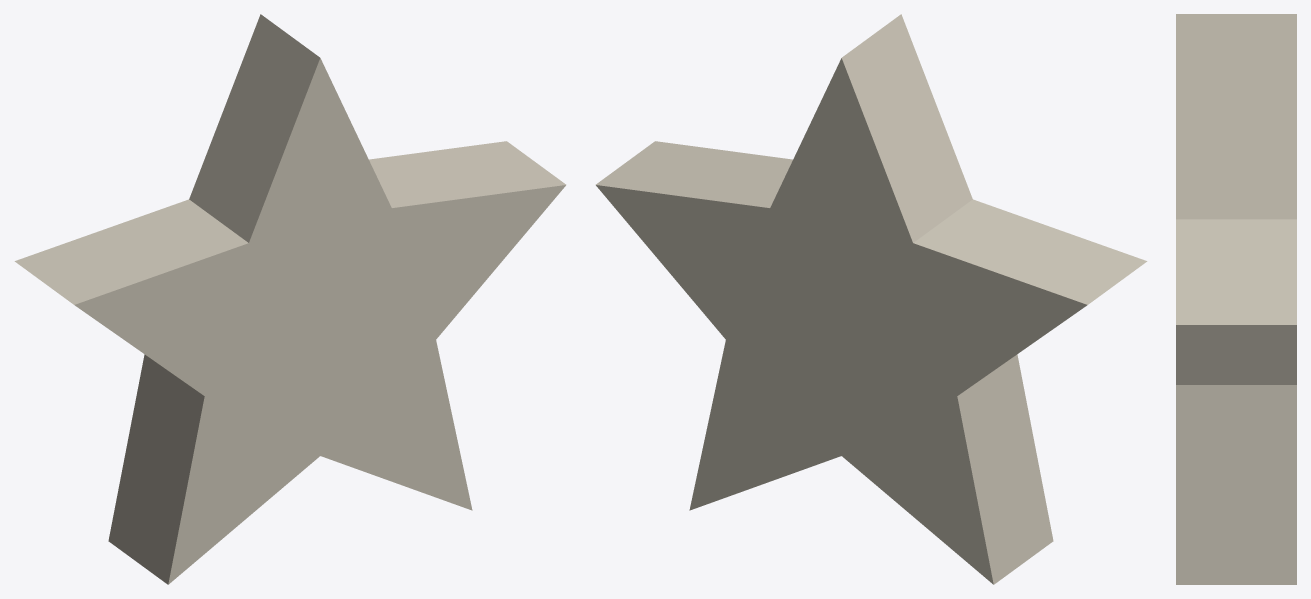
File: applause.glb
3 renders of one model, left to right at view 1: azimuth 30°, elevation 25°; view 2: azimuth 150°, elevation 25°; view 3: azimuth 270°, elevation 25°, orthographic.
Parts seen in each view (by area): view 1: applause; view 2: applause; view 3: applause.
Part boxes in pixels (box(x1,y1,x2,y2)): applause: box(14, 14, 566, 584); applause: box(595, 14, 1147, 584); applause: box(1176, 14, 1296, 584).
Size of the model in its own units: 0.3424 by 0.3256 by 0.072.
